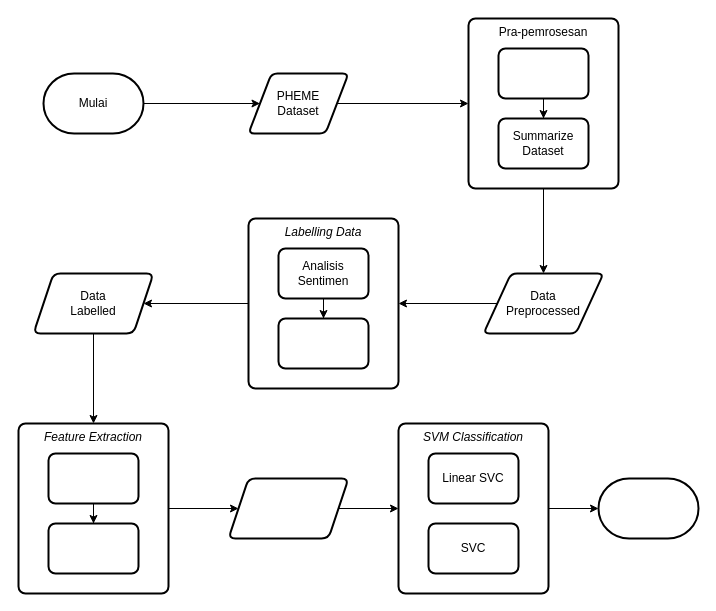
Image size: 716x611. Some labels were removed from this diagram. Each missing label, with the centre of its shape:
Data Extracted: (288,508)
Intensity score: (323,343)
Parsing Dataset: (543,73)
Selesai: (648,508)
Tweet Feature: (93,548)
User Feature: (93,478)
